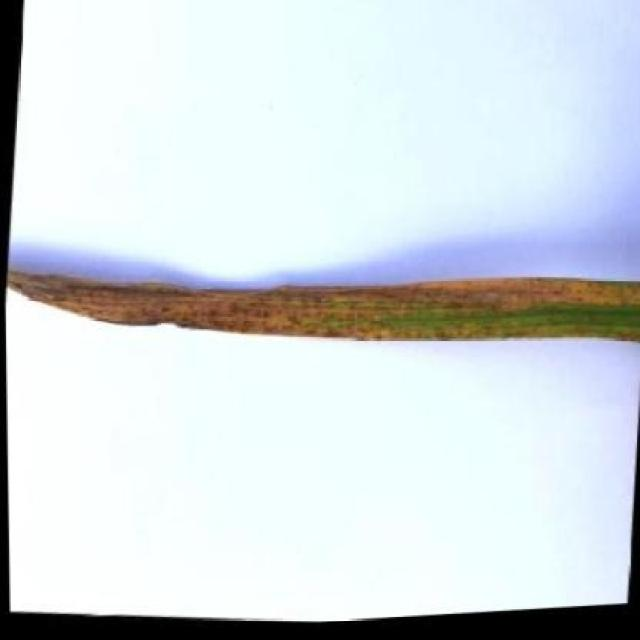Rice False Smut: (6, 269, 640, 350)
